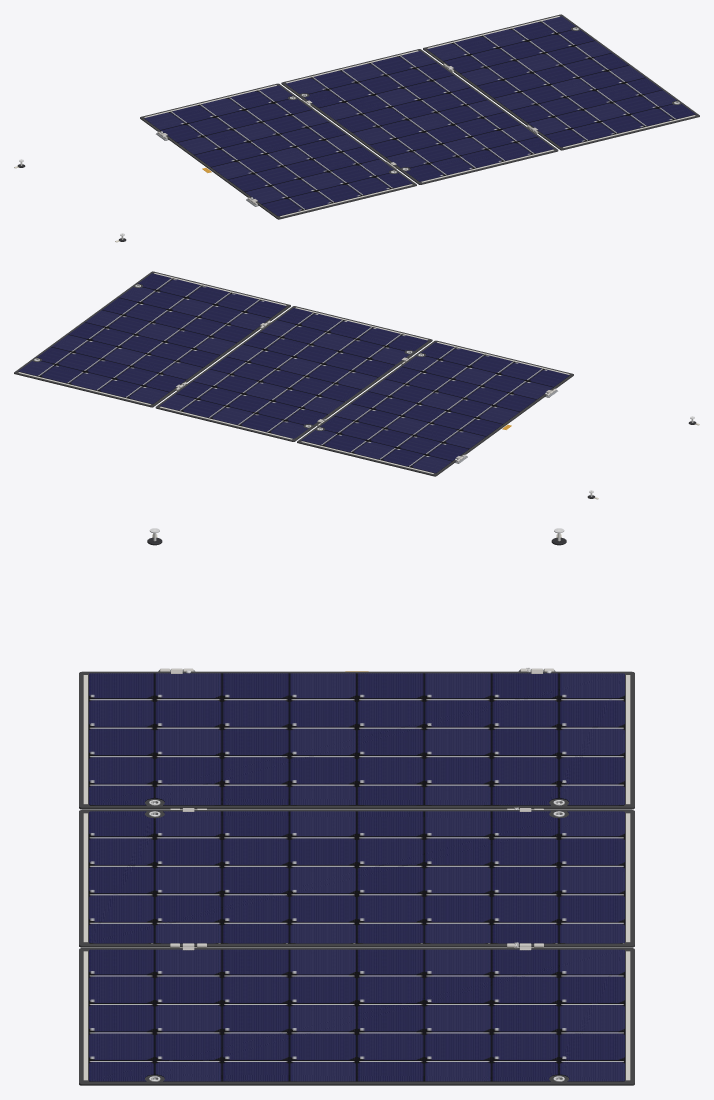
File: solar_wing.glb
The picture shows the model from 3 angles, top to bottom: view 1: azimuth 30°, elevation 25°; view 2: azimuth 150°, elevation 25°; view 3: azimuth 270°, elevation 25°; orthographic projection. The views are drawn at different scales.
Visible parts, largest first — view 1: hinge_2, hinge_1, hinge_3; view 2: hinge_2, hinge_1, hinge_3; view 3: hinge_1, hinge_3, hinge_2.
Boxes of the visible parts, x1=… form: hinge_2: x1=281, y1=49, x2=558, y2=184; hinge_1: x1=140, y1=83, x2=416, y2=219; hinge_3: x1=423, y1=14, x2=699, y2=150; hinge_2: x1=155, y1=306, x2=432, y2=441; hinge_1: x1=297, y1=340, x2=573, y2=476; hinge_3: x1=14, y1=271, x2=290, y2=407; hinge_1: x1=79, y1=668, x2=634, y2=809; hinge_3: x1=79, y1=942, x2=634, y2=1085; hinge_2: x1=79, y1=807, x2=634, y2=947.
Size of the model in its own units: 0.776 by 0.0088 by 0.33.
Materials: 11 (1 with a texture image).
